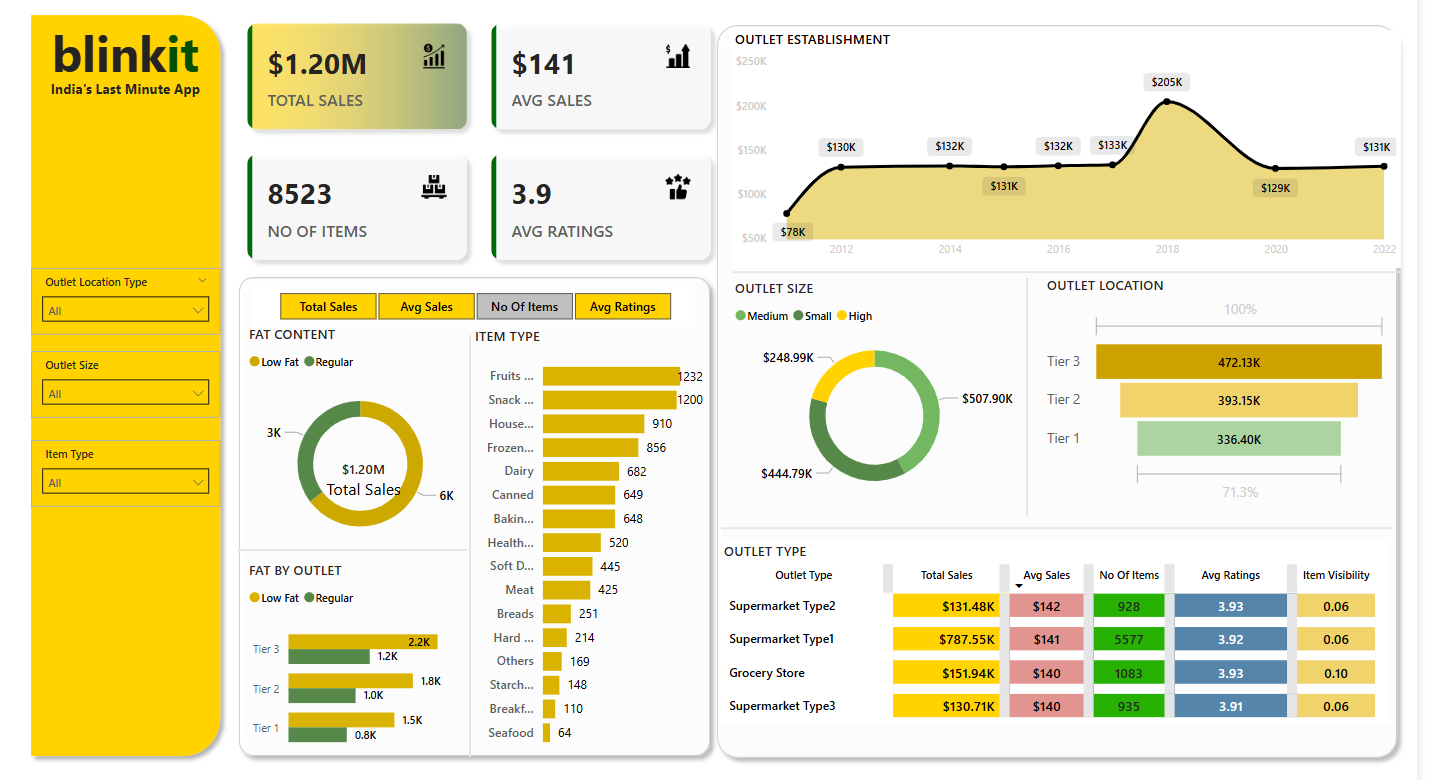

Layout of this report page (visuals, bound fields, positions):
{"tool":"powerbi","page":{"name":"Page 1","canvas":[1400,800],"ordinal":0},"visuals":[{"type":"shape","box":[22.3,24.5,205.3,750],"z":0},{"type":"textbox","box":[31.6,32.6,186.7,75.1],"z":1000},{"type":"textbox","box":[31.6,92.8,186.7,28.6],"z":2000},{"type":"cardVisual","fields":{"Data":["BlinkIT Grocery Data.Total Sales","BlinkIT Grocery Data.Average Sales","BlinkIT Grocery Data.Number Of Items","BlinkIT Grocery Data.Average Ratings"]},"box":[228.1,24.7,493.8,269.6],"z":3000},{"type":"shape","box":[228.1,283.5,483,490.9],"z":4000},{"type":"slicer","fields":{"Values":["Metrics.Metrics"]},"box":[251.9,301.2,435.6,40.5],"z":5000},{"type":"donutChart","title":"FAT CONTENT","fields":{"Y":["BlinkIT Grocery Data.Total Sales"],"Category":["BlinkIT Grocery Data.Item Fat Content"]},"box":[241.5,339.6,230.2,230.2],"z":6000},{"type":"cardVisual","fields":{"Data":["BlinkIT Grocery Data.Total Sales"]},"box":[305.2,454.3,110.6,75.1],"z":7000},{"type":"clusteredBarChart","title":"FAT BY OUTLET","fields":{"Y":["BlinkIT Grocery Data.Total Sales"],"Category":["BlinkIT Grocery Data.Outlet Location Type"],"Series":["BlinkIT Grocery Data.Item Fat Content"]},"box":[241.5,572.6,220.8,200.9],"z":8000},{"type":"shape","box":[234.9,549.1,227.4,26.4],"z":9000},{"type":"shape","box":[455.3,349.6,19.8,416.8],"z":10000},{"type":"barChart","title":"ITEM TYPE","fields":{"Y":["BlinkIT Grocery Data.Total Sales"],"Category":["BlinkIT Grocery Data.Item Type"]},"box":[465.2,341.7,235.1,424.7],"z":11000},{"type":"shape","box":[700,34.9,689.6,741.5],"z":12000},{"type":"lineChart","title":"OUTLET ESTABLISHMENT","fields":{"Category":["BlinkIT Grocery Data.Outlet Establishment Year"],"Y":["BlinkIT Grocery Data.Total Sales"]},"box":[721.7,48.1,663.2,234.9],"z":13000},{"type":"shape","box":[723.6,274.5,663.2,26.4],"z":14000},{"type":"donutChart","title":"OUTLET SIZE","fields":{"Y":["BlinkIT Grocery Data.Total Sales"],"Category":["BlinkIT Grocery Data.Outlet Size"]},"box":[722.1,294.3,285.9,226],"z":15000},{"type":"shape","box":[997.4,293.2,35.7,235.4],"z":16000},{"type":"funnel","title":"OUTLET LOCATION","fields":{"Category":["BlinkIT Grocery Data.Outlet Location Type"],"Y":["Sum(BlinkIT Grocery Data.Sales)"]},"box":[1030,291.1,345.8,228.1],"z":17000},{"type":"shape","box":[712.6,527.6,663.2,26.3],"z":18000},{"type":"pivotTable","title":"OUTLET TYPE","fields":{"Rows":["BlinkIT Grocery Data.Outlet Type"],"Values":["BlinkIT Grocery Data.Total Sales","BlinkIT Grocery Data.Avg Sales","BlinkIT Grocery Data.No Of Items","BlinkIT Grocery Data.Avg Ratings","Avg(BlinkIT Grocery Data.Item Visibility)"]},"box":[711.6,553.9,663.2,178.7],"z":19000},{"type":"slicer","fields":{"Values":["BlinkIT Grocery Data.Outlet Location Type"]},"box":[31.5,283.8,187.1,66.2],"z":19001},{"type":"slicer","fields":{"Values":["BlinkIT Grocery Data.Outlet Size"]},"box":[31.5,365.8,187.1,66.2],"z":19002},{"type":"slicer","fields":{"Values":["BlinkIT Grocery Data.Item Type"]},"box":[31.5,453,187.1,66.2],"z":19003}]}

Visuals, with their boxes on the page's 1400x800 design canvas (x1, y1, x2, y2). These are canvas units, not pixel positions in the 1430x780 screenshot, which may show the page scaled, cropped or inside an application window:
shape: (22,24,228,774)
textbox: (32,33,218,108)
textbox: (32,93,218,121)
cardVisual - BlinkIT Grocery Data.Total Sales x BlinkIT Grocery Data.Average Sales: (228,25,722,294)
shape: (228,284,711,774)
slicer - Metrics.Metrics: (252,301,688,342)
"FAT CONTENT" donutChart: (242,340,472,570)
cardVisual - BlinkIT Grocery Data.Total Sales: (305,454,416,529)
"FAT BY OUTLET" clusteredBarChart: (242,573,462,774)
shape: (235,549,462,576)
shape: (455,350,475,766)
"ITEM TYPE" barChart: (465,342,700,766)
shape: (700,35,1390,776)
"OUTLET ESTABLISHMENT" lineChart: (722,48,1385,283)
shape: (724,274,1387,301)
"OUTLET SIZE" donutChart: (722,294,1008,520)
shape: (997,293,1033,529)
"OUTLET LOCATION" funnel: (1030,291,1376,519)
shape: (713,528,1376,554)
"OUTLET TYPE" pivotTable: (712,554,1375,733)
slicer - BlinkIT Grocery Data.Outlet Location Type: (32,284,219,350)
slicer - BlinkIT Grocery Data.Outlet Size: (32,366,219,432)
slicer - BlinkIT Grocery Data.Item Type: (32,453,219,519)
